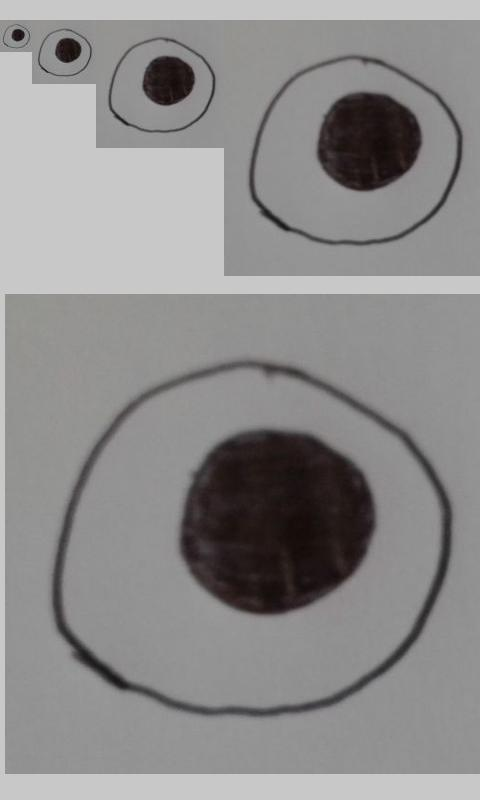radio_button: (51, 358, 455, 719), (247, 54, 464, 247), (108, 36, 216, 133), (37, 27, 93, 77), (2, 23, 31, 49)
